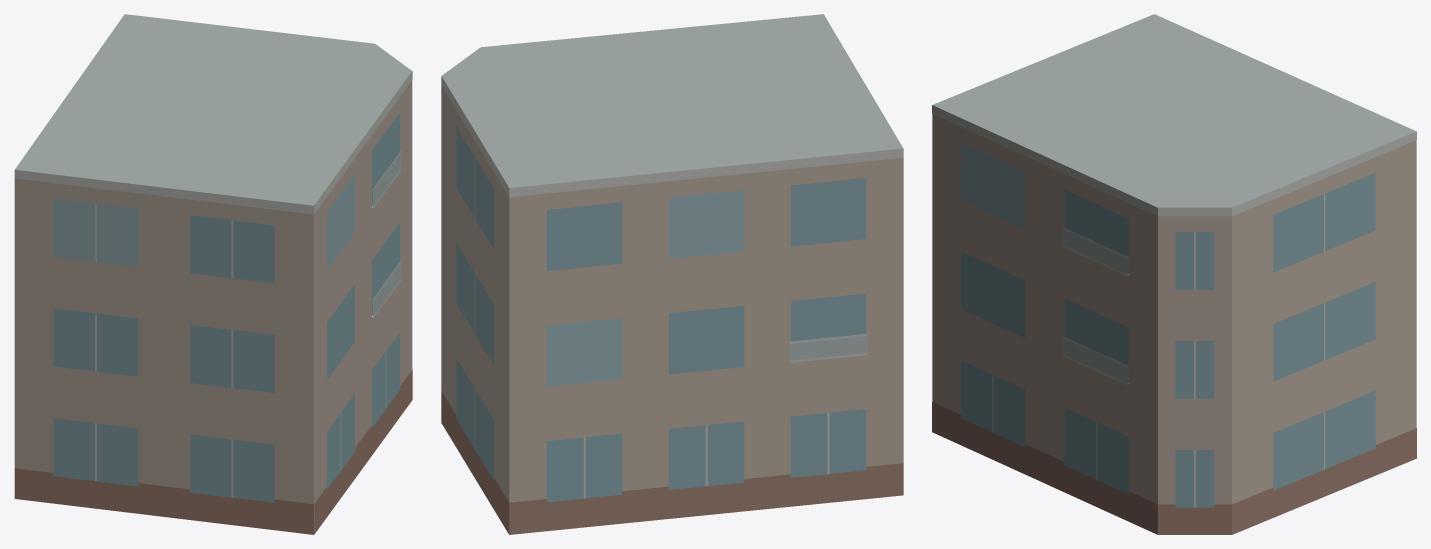
File: survey-upis-32544105.glb
The picture shows the model from 3 angles, left to right: view 1: azimuth 30°, elevation 25°; view 2: azimuth 150°, elevation 25°; view 3: azimuth 270°, elevation 25°; orthographic projection. The views are drawn at different scales.
Visible parts, largest first — view 1: survey-upis-32544105.tmp; view 2: survey-upis-32544105.tmp; view 3: survey-upis-32544105.tmp.
Boxes of the visible parts, x1,y1,x2,y2 form: survey-upis-32544105.tmp: (14, 14, 412, 534); survey-upis-32544105.tmp: (441, 14, 903, 534); survey-upis-32544105.tmp: (932, 14, 1416, 534).
Bounding box in the file's own units: 11.7 × 9.2 × 12.36.
